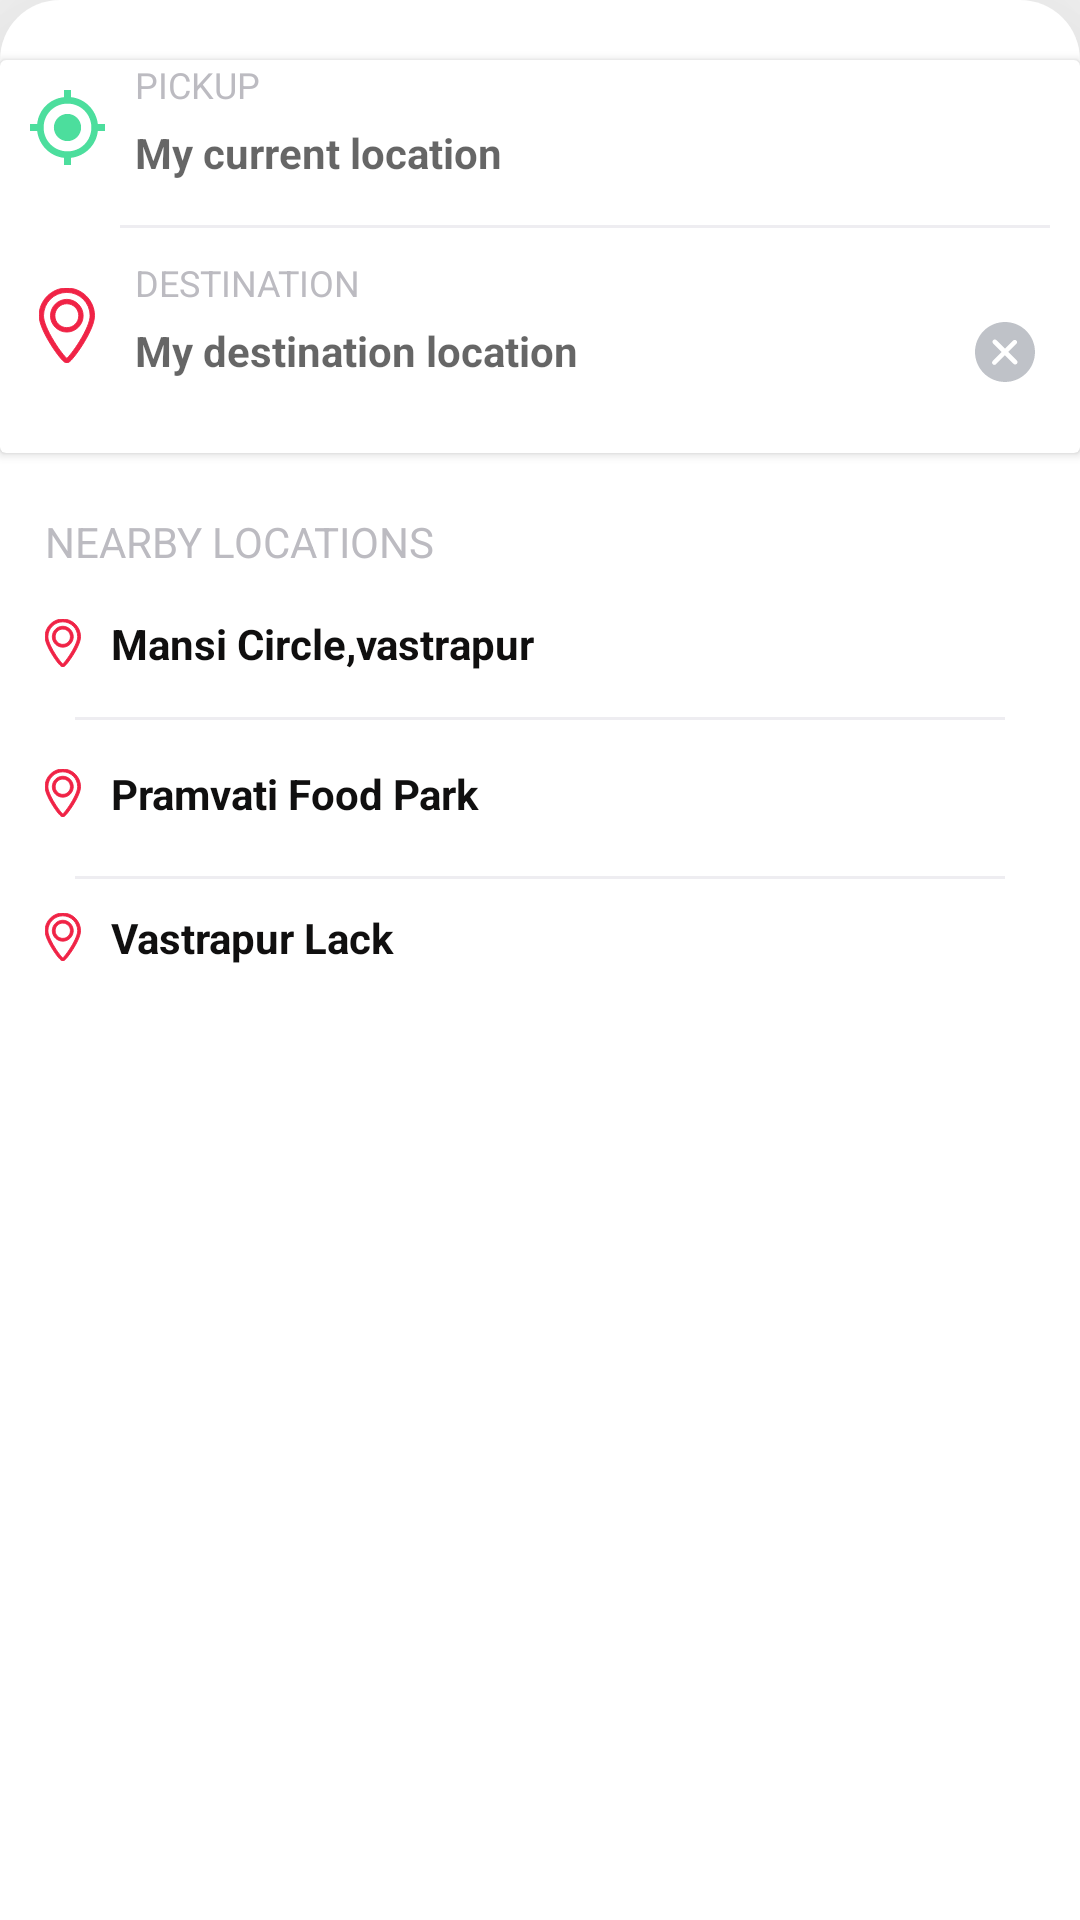

Screen size 1080x1920. Icon name, then its center in pixels as point (x, y):
cancle: point (1005, 352)
picupicon: point (67, 127)
